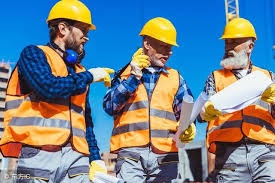yellow: (44, 1, 95, 54), (138, 15, 179, 66), (217, 18, 259, 66)
